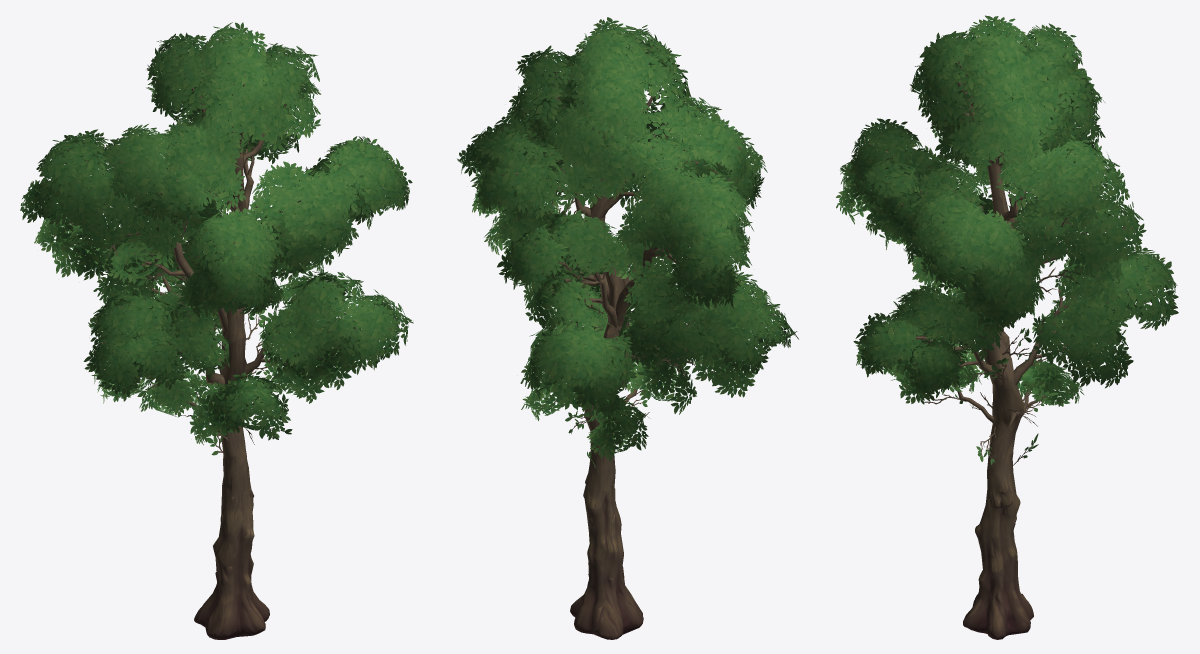
The model's file is SM_FW01_Tree_B_01.fbx.
3 renders of one model, left to right at view 1: azimuth 30°, elevation 25°; view 2: azimuth 150°, elevation 25°; view 3: azimuth 270°, elevation 25°, orthographic.
Visible parts, largest first — view 1: SM_FW01_Tree_B_01_LOD0; view 2: SM_FW01_Tree_B_01_LOD0; view 3: SM_FW01_Tree_B_01_LOD0.
Boxes of the visible parts, left/top/right/bottom form: SM_FW01_Tree_B_01_LOD0: left=20, top=22, right=413, bottom=639; SM_FW01_Tree_B_01_LOD0: left=457, top=17, right=798, bottom=639; SM_FW01_Tree_B_01_LOD0: left=836, top=15, right=1178, bottom=639.
Size of what is drawn, in the model's own units: 7.12 by 12.38 by 6.45.
